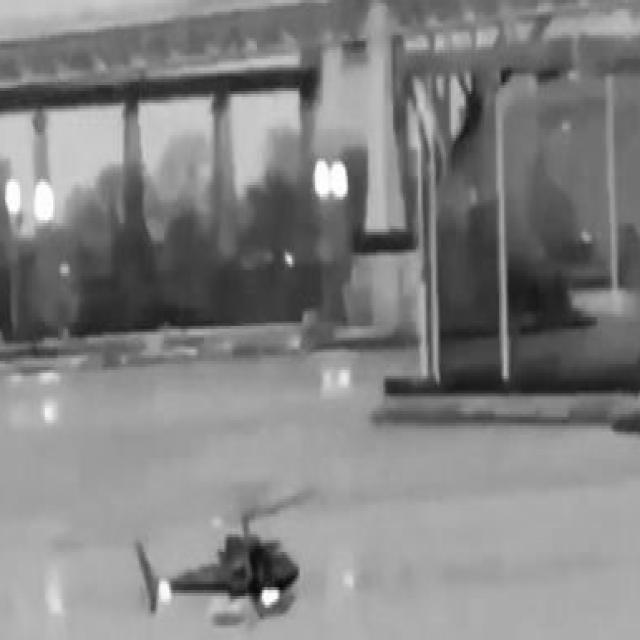helicopter: (131, 470, 329, 640)
